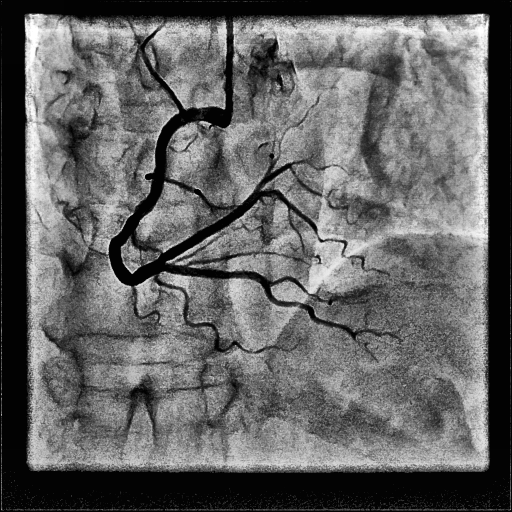pborca: (159, 162, 292, 262)
pda: (162, 264, 358, 341)
rca: (109, 106, 226, 285)
